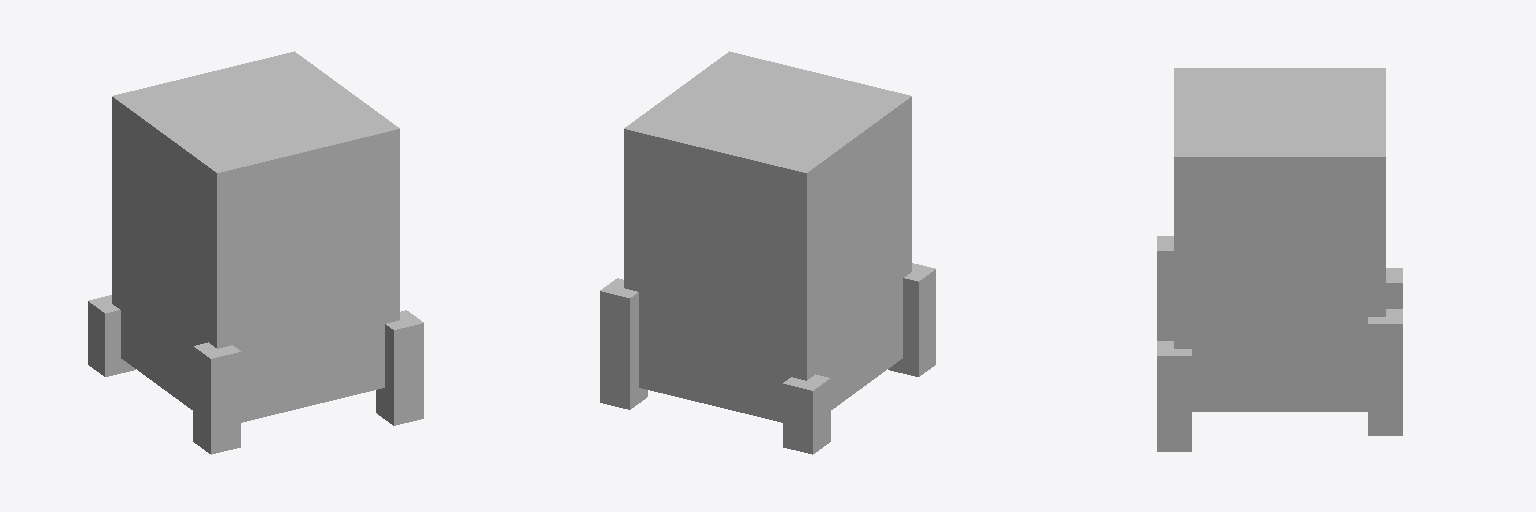
File: tree.obj
3 renders of one model, left to right at view 1: azimuth 30°, elevation 25°; view 2: azimuth 150°, elevation 25°; view 3: azimuth 270°, elevation 25°, orthographic.
Visible parts, largest first — view 1: tree, tree3, tree2, tree1; view 2: tree, tree4, tree3, tree1; view 3: tree, tree4, tree2, tree3, tree1.
Part boxes in pixels (x1,y1,x2,y2): tree: (112,51,399,422); tree3: (193,342,240,454); tree2: (376,310,423,425); tree1: (88,295,135,376); tree: (624,51,911,422); tree4: (600,278,647,409); tree3: (888,263,935,376); tree1: (783,374,830,454); tree: (1174,68,1385,411); tree4: (1368,309,1402,435); tree2: (1157,341,1191,451); tree3: (1157,236,1173,340); tree1: (1386,268,1402,308).
Bounding box in the file's own units: 0.875 × 1.12 × 0.875.